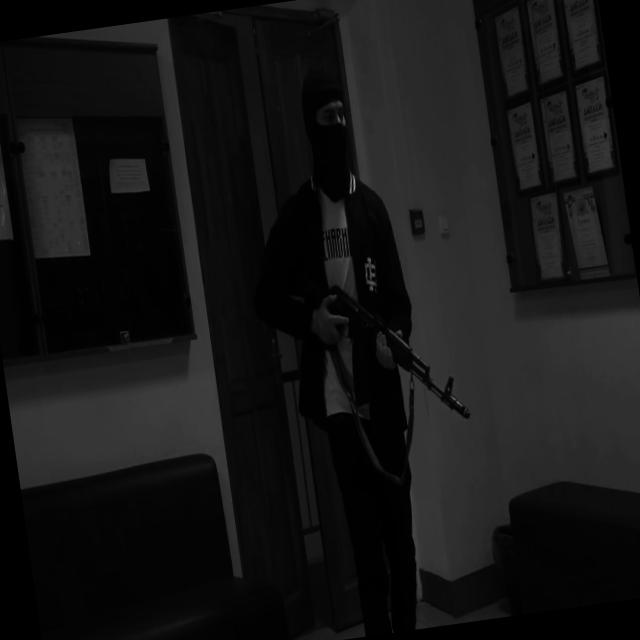gun: (289, 246, 472, 442)
person with a gun: (222, 52, 500, 640)
